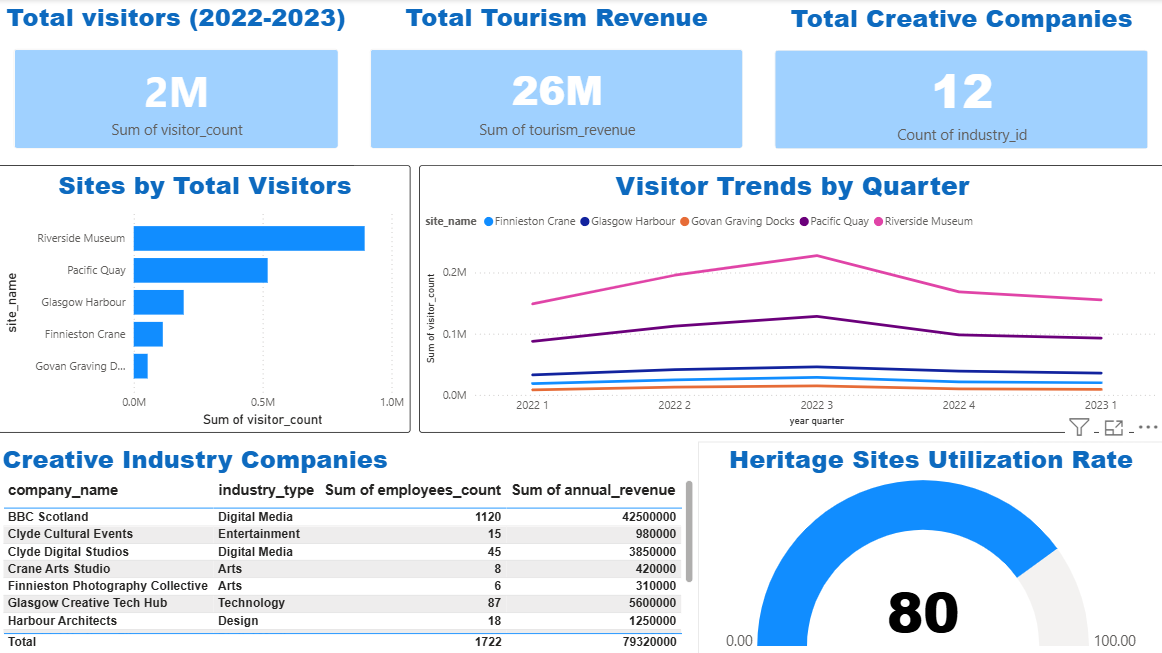

The page's visual inventory and layout, read from the dashboard file:
{"tool":"powerbi","page":{"name":"Overview","canvas":[1280,720],"ordinal":0},"visuals":[{"type":"cardVisual","title":"Total visitors (2022-2023)","fields":{"Data":["Sum(Economic impact.visitor_count)"]},"box":[0,0,391.1,182.5],"z":0},{"type":"clusteredBarChart","title":"Sites by Total Visitors","fields":{"Category":["Maritime sites.site_name"],"Y":["Sum(Economic impact.visitor_count)"]},"box":[0,182.5,452.8,293.7],"z":1000},{"type":"lineChart","title":"Visitor Trends by Quarter","fields":{"Category":["Economic impact.year","Economic impact.quarter"],"Y":["Sum(Economic impact.visitor_count)"],"Series":["Maritime sites.site_name"]},"box":[462.4,182.5,817.8,293.7],"z":2000},{"type":"tableEx","title":"Creative Industry Companies","fields":{"Values":["Creative industries.company_name","Creative industries.industry_type","Sum(Creative industries.employees_count)","Sum(Creative industries.annual_revenue)"]},"box":[0,485.8,768.4,234.6],"z":3000},{"type":"cardVisual","title":"Total Tourism Revenue","fields":{"Data":["Sum(Economic impact.tourism_revenue)"]},"box":[391.1,0,444.6,182.5],"z":4000},{"type":"cardVisual","title":"Total Creative Companies","fields":{"Data":["Count(Creative industries.industry_id)"]},"box":[835.7,1.4,444.6,181.1],"z":5000},{"type":"gauge","title":"Heritage Sites Utilization Rate","fields":{"Y":["Maritime sites.Utility Rate"]},"box":[768.4,485.8,511.8,234.6],"z":6000}]}

Visuals, with their boxes in screenshot pixels (x1, y1, x2, y2), scaled from the page's 1280x720 canvas onto the 1162x653 screenshot:
"Total visitors (2022-2023)" cardVisual: detection(0, 0, 355, 166)
"Sites by Total Visitors" clusteredBarChart: detection(0, 166, 411, 432)
"Visitor Trends by Quarter" lineChart: detection(420, 166, 1161, 432)
"Creative Industry Companies" tableEx: detection(0, 441, 698, 652)
"Total Tourism Revenue" cardVisual: detection(355, 0, 759, 166)
"Total Creative Companies" cardVisual: detection(759, 1, 1161, 166)
"Heritage Sites Utilization Rate" gauge: detection(698, 441, 1161, 652)
